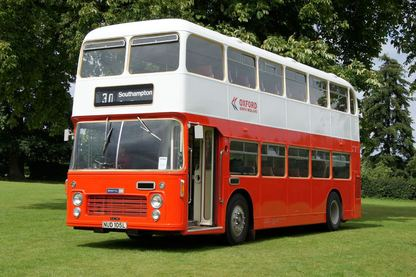bus: (63, 16, 360, 246)
